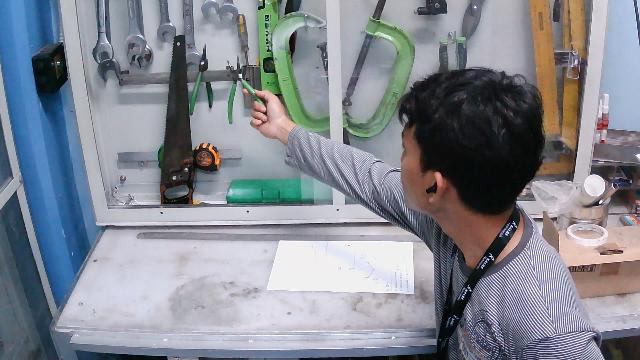tang_cucut_lancip_1: (218, 51, 272, 129)
